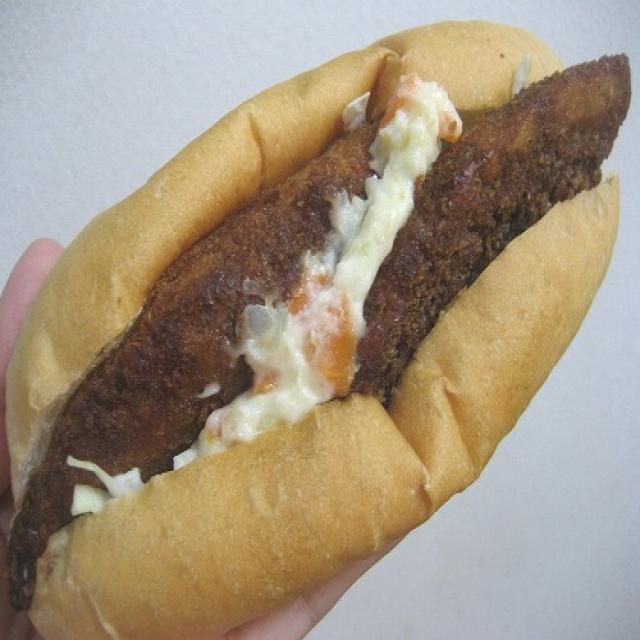三明治: (11, 26, 628, 628)
